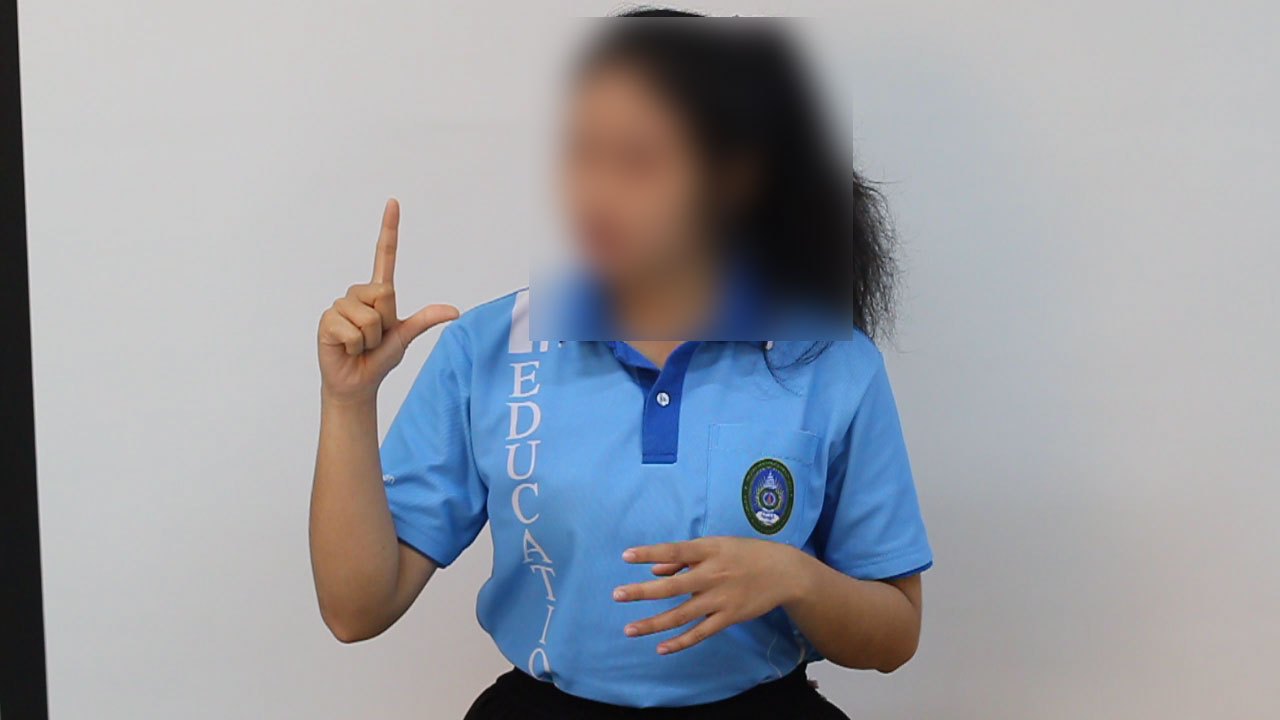lor: (315, 177, 471, 400)
